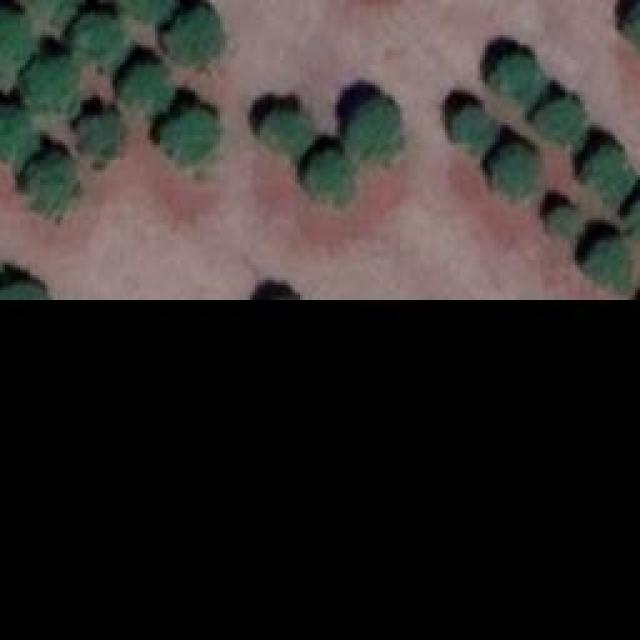Tree: (348, 95, 408, 165), (305, 148, 360, 208), (25, 65, 83, 120), (168, 5, 218, 63), (585, 143, 633, 203), (495, 47, 543, 105), (163, 110, 218, 160), (28, 155, 78, 210), (260, 105, 313, 155), (530, 98, 583, 148), (125, 63, 170, 113), (78, 15, 123, 63), (0, 12, 32, 79), (590, 238, 630, 291), (495, 140, 533, 195), (83, 112, 123, 160), (453, 108, 496, 151), (0, 113, 38, 158), (117, 0, 174, 22), (0, 280, 46, 302), (625, 195, 640, 248), (547, 205, 575, 233)
